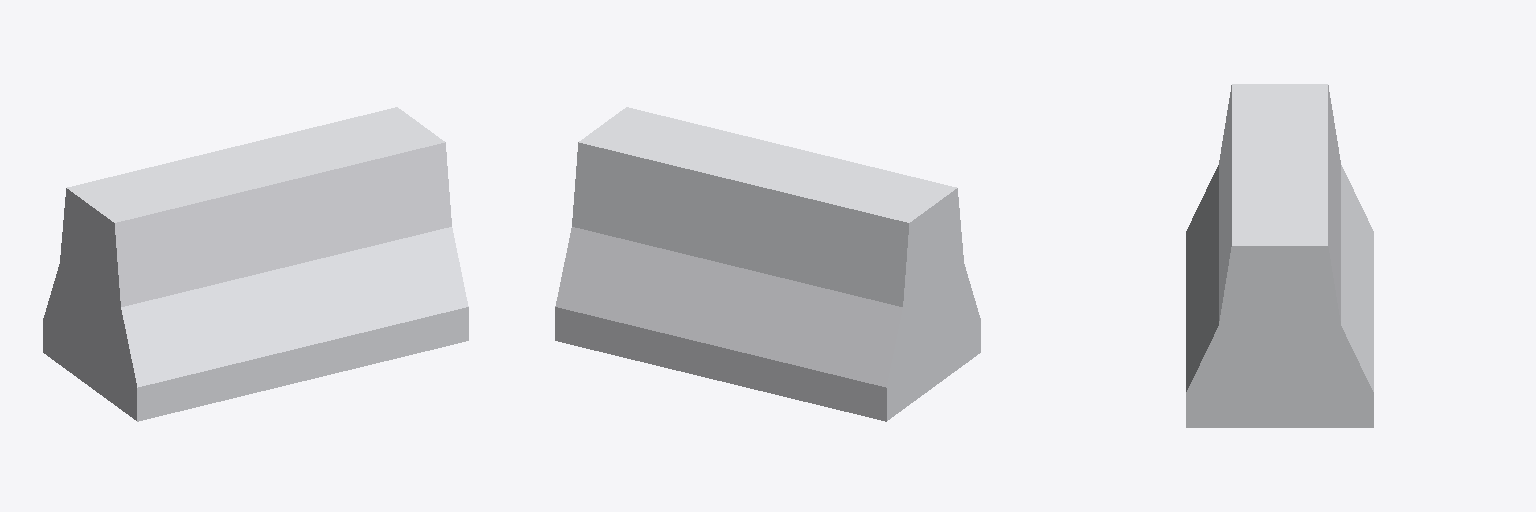
Rendered from barrierWhite.obj.
The picture shows the model from 3 angles: view 1: azimuth 30°, elevation 25°; view 2: azimuth 150°, elevation 25°; view 3: azimuth 270°, elevation 25°; orthographic projection.
Visible parts, largest first — view 1: barrierWhite; view 2: barrierWhite; view 3: barrierWhite.
Boxes of the visible parts, box(x1,y1,x2,y2) form: barrierWhite: box(43, 107, 468, 421); barrierWhite: box(555, 107, 980, 421); barrierWhite: box(1186, 84, 1373, 427).
Bounding box in the file's own units: 0.25 × 0.1312 × 0.123.